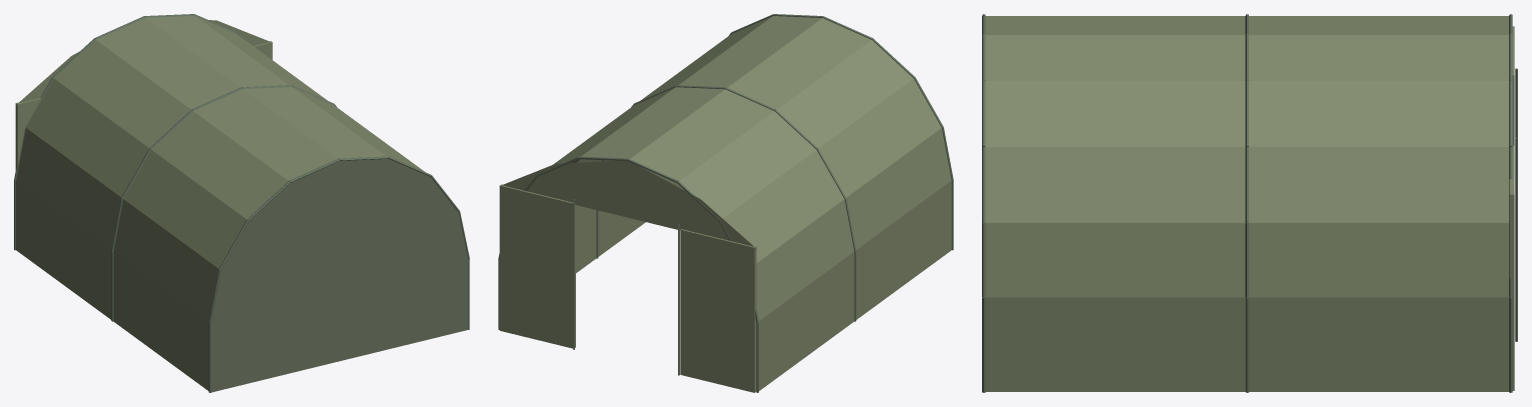
File: MilitaryTent.fbx
3 views of the same model, side by side, from view 1: azimuth 30°, elevation 25°; view 2: azimuth 150°, elevation 25°; view 3: azimuth 270°, elevation 25° (orthographic). The views are drawn at different scales.
Visible parts, largest first — view 1: CanvasShell, BackCanvas, DoorArch, DoorSide1; view 2: CanvasShell, DoorSide1, DoorSide-1, DoorArch; view 3: CanvasShell, DoorSide-1, DoorZip-1, Seam0_0.
Part boxes in pixels (x1=…): CanvasShell: x1=16, y1=15, x2=424, y2=390; BackCanvas: x1=211, y1=159, x2=468, y2=392; DoorArch: x1=15, y1=20, x2=270, y2=105; DoorSide1: x1=15, y1=98, x2=40, y2=169; CanvasShell: x1=553, y1=16, x2=951, y2=390; DoorSide1: x1=680, y1=229, x2=756, y2=392; DoorSide-1: x1=499, y1=184, x2=575, y2=348; DoorArch: x1=502, y1=161, x2=756, y2=248; CanvasShell: x1=985, y1=16, x2=1508, y2=391; DoorSide-1: x1=1509, y1=145, x2=1514, y2=390; DoorZip-1: x1=1515, y1=137, x2=1517, y2=341; Seam0_0: x1=1245, y1=297, x2=1249, y2=392.
Size of the model in its own units: 3.23 by 2.39 by 4.25.
